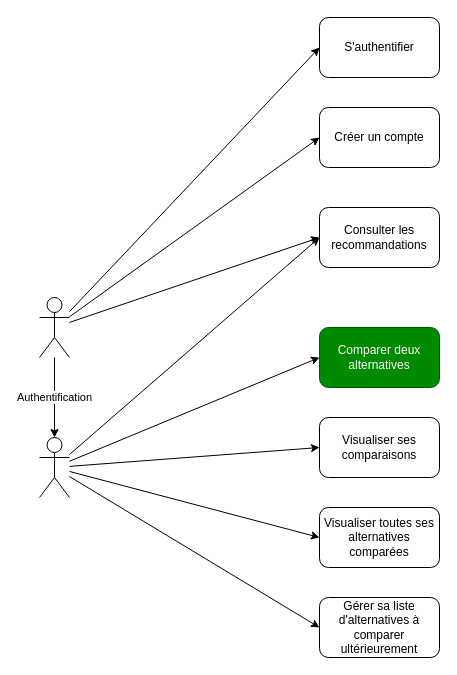
This 457x675 diagram has some shape labels left out. Each missing label, with the centre of its shape:
Contributeur: pixel 54 467
Internaute: pixel 54 327
